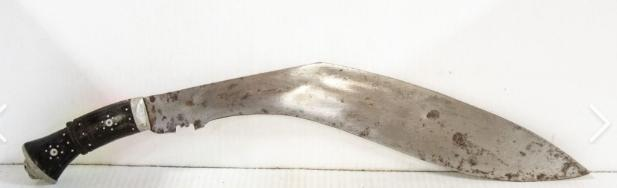MACHETTE: (3, 57, 604, 188)
